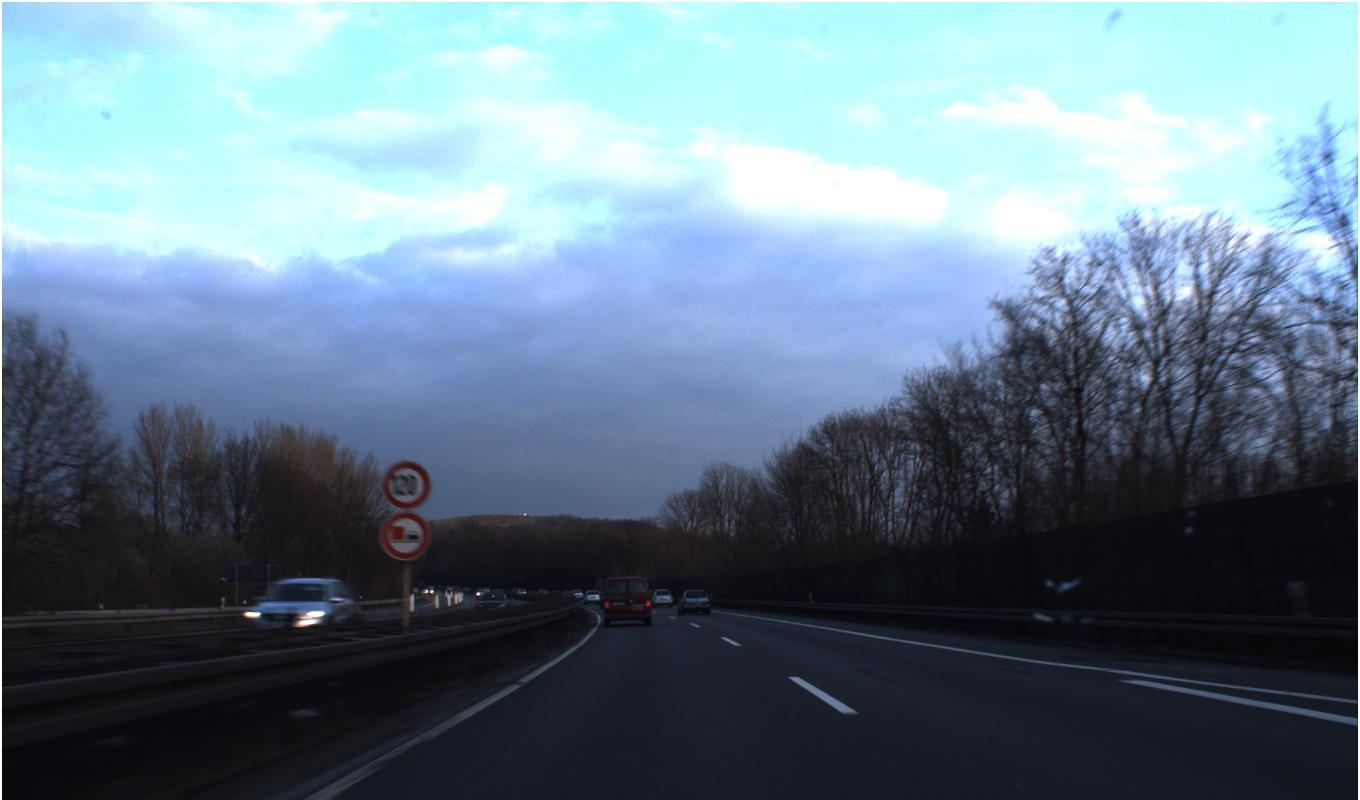prohibitory: (378, 509, 431, 561), (382, 460, 431, 510)
